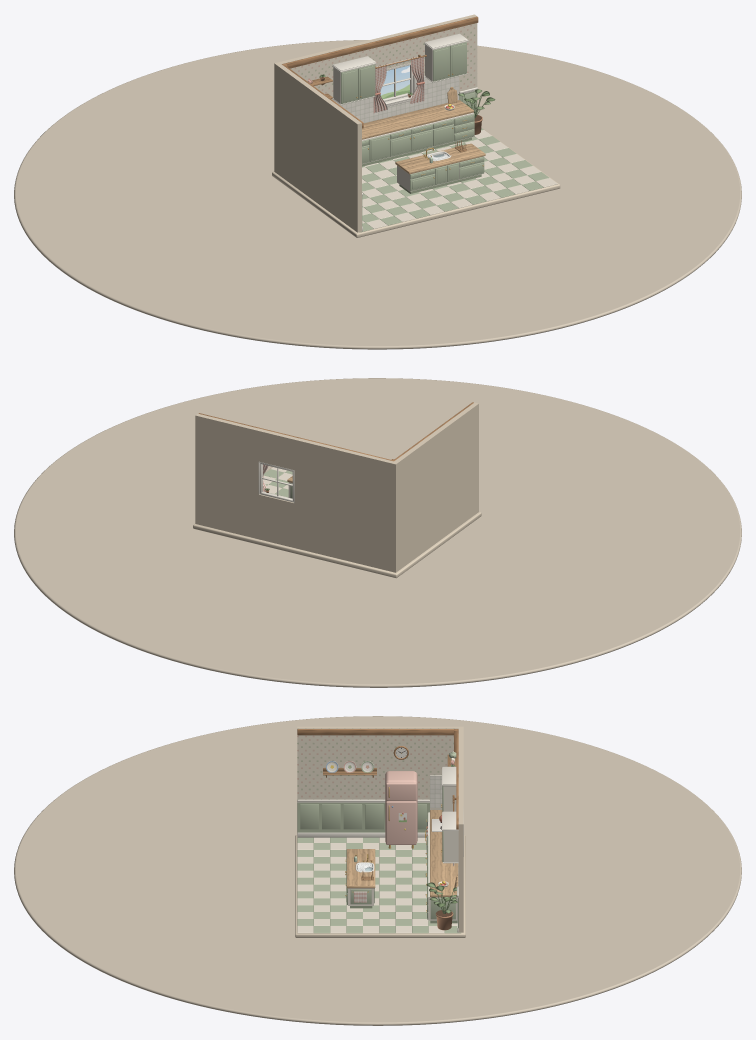
File: kitchen.glb
The picture shows the model from 3 angles, top to bottom: view 1: azimuth 30°, elevation 25°; view 2: azimuth 150°, elevation 25°; view 3: azimuth 270°, elevation 25°; orthographic projection.
Visible parts, largest first — view 1: tabletop, wall_left_f, floor_tiles, upper_cabinets, wall_back, back_counter, wall_left, backsplash, dollhouse_base, island, back_top, wall_back_plate (+4 smaller); view 2: tabletop, wall_back, wall_left_f, wall_back_r, wall_left, dollhouse_base, floor_tiles, window_frame; view 3: tabletop, floor_tiles, wall_left_f, wall_left_f_wainscot, fridge, upper_cabinets, dollhouse_base, back_top, wall_left_plate, wall_left_f_trim, island_top, wall_left (+5 smaller).
Part boxes in pixels (x1,y1,x2,y2): tabletop: (14,40,741,349); wall_left_f: (291,74,361,232); floor_tiles: (359,128,557,232); upper_cabinets: (332,33,468,104); wall_back: (274,19,459,173); back_counter: (362,112,474,166); wall_left: (274,63,295,183); backsplash: (332,76,459,123); dollhouse_base: (272,127,560,237); island: (397,156,484,193); back_top: (362,100,473,139); wall_back_plate: (282,16,478,68); tabletop: (14,378,741,687); wall_back: (213,418,398,572); wall_left_f: (409,402,478,559); wall_back_r: (195,413,215,527); wall_left: (391,451,412,571); dollhouse_base: (193,467,481,578); floor_tiles: (263,467,292,497); window_frame: (258,461,294,503); tabletop: (14,716,741,1025); floor_tiles: (297,837,460,933); wall_left_f: (297,726,429,799); wall_left_f_wainscot: (297,802,429,832); fridge: (385,771,417,844); upper_cabinets: (442,766,458,863); dollhouse_base: (295,835,465,937); back_top: (430,810,458,897); wall_left_plate: (297,729,454,735); wall_left_f_trim: (297,799,429,837); island_top: (346,849,375,888); wall_left: (430,726,459,809).
Size of the model in its own units: 14 by 2.47 by 14.
55 materials, 14 textured.
